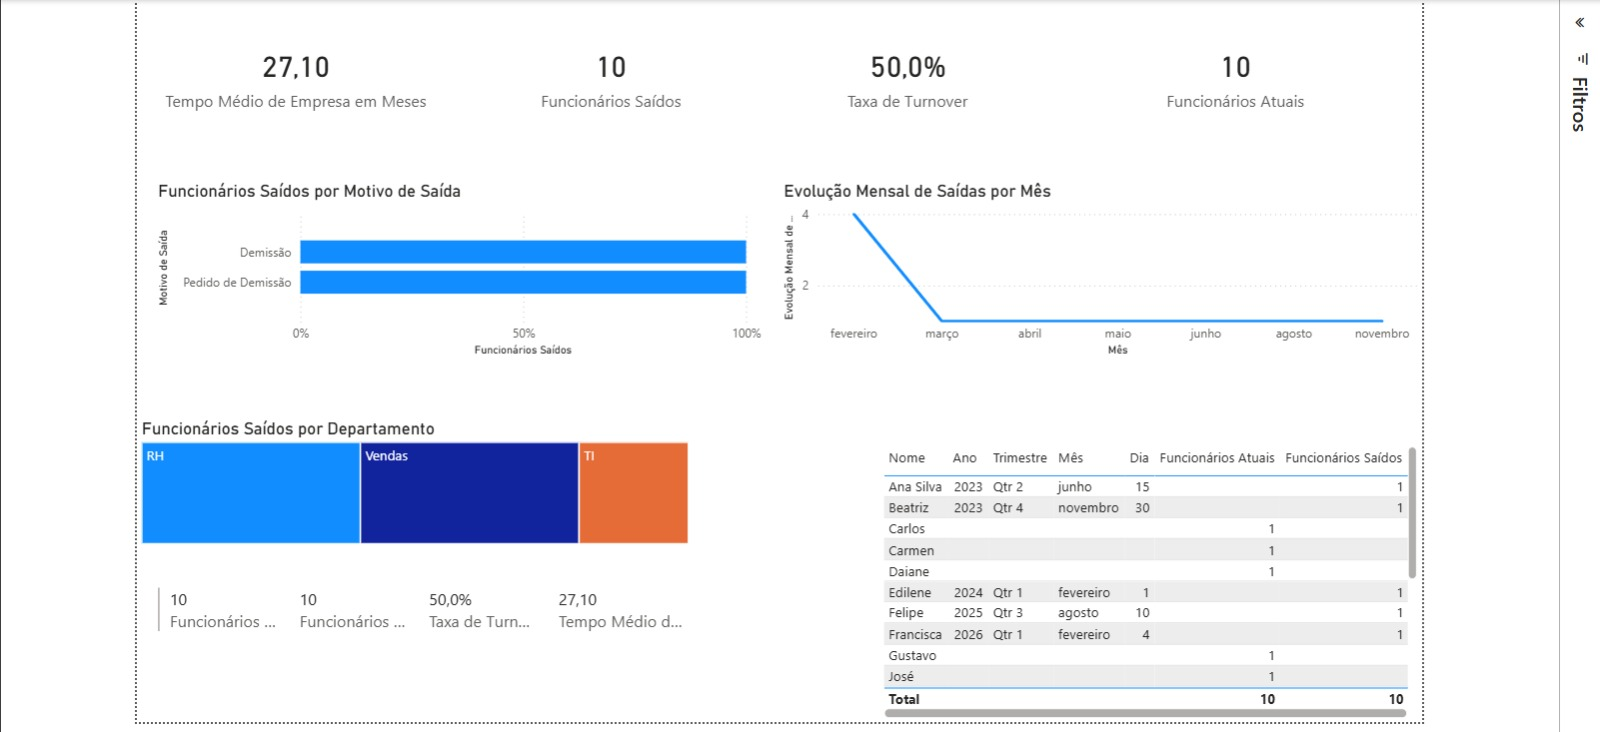

This screenshot's page, from the dashboard's own definition file:
{"tool":"powerbi","page":{"name":"Página 1","canvas":[1280,720],"ordinal":0},"visuals":[{"type":"tableEx","fields":{"Values":["Funcionarios.Nome","Funcionarios.Data_Saida.Variation.Hierarquia de datas.Ano","Funcionarios.Data_Saida.Variation.Hierarquia de datas.Trimestre","Funcionarios.Data_Saida.Variation.Hierarquia de datas.Mês","Funcionarios.Data_Saida.Variation.Hierarquia de datas.Dia","Funcionarios.Funcionarios_Atuais","Funcionarios.Funcionarios_Saidos"]},"box":[738.3,440.5,542,279.9],"z":0},{"type":"multiRowCard","fields":{"Values":["Funcionarios.Funcionarios_Atuais","Funcionarios.Funcionarios_Saidos","Funcionarios.Taxa_Turnover","Funcionarios.Tempo_Medio_Empresa_Meses"]},"box":[16.5,580.4,537.9,140],"z":1},{"type":"card","fields":{"Values":["Funcionarios.Funcionarios_Atuais"]},"box":[908.4,0,371.9,150.9],"z":2},{"type":"card","fields":{"Values":["Funcionarios.Funcionarios_Saidos"]},"box":[317,0,310.1,150.9],"z":3},{"type":"card","fields":{"Values":["Funcionarios.Taxa_Turnover"]},"box":[627.1,0,281.3,150.9],"z":4},{"type":"card","fields":{"Values":["Funcionarios.Tempo_Medio_Empresa_Meses"]},"box":[0,0,317,150.9],"z":5},{"type":"lineChart","fields":{"Category":["Funcionarios.Data_Saida.Variation.Hierarquia de datas.Mês"],"Y":["Funcionarios.Funcionarios_Saidos"]},"box":[639.5,179.8,640.8,179.8],"z":6},{"type":"treemap","fields":{"Group":["Funcionarios.Departamento"],"Values":["Funcionarios.Funcionarios_Saidos"]},"box":[0,417.2,554.4,130.4],"z":7},{"type":"hundredPercentStackedBarChart","fields":{"Category":["Funcionarios.Motivo_Saida"],"Y":["Funcionarios.Funcionarios_Saidos"]},"box":[16.5,179.8,610.6,179.8],"z":8}]}

Visuals, with their boxes on the page's 1280x720 design canvas (x1, y1, x2, y2). These are canvas units, not pixel positions in the 1600x732 screenshot, which may show the page scaled, cropped or inside an application window:
tableEx - Funcionarios.Nome x Funcionarios.Data_Saida.Variation.Hierarquia de datas.Ano: {"x1": 738, "y1": 440, "x2": 1280, "y2": 720}
multiRowCard - Funcionarios.Funcionarios_Atuais x Funcionarios.Funcionarios_Saidos: {"x1": 16, "y1": 580, "x2": 554, "y2": 720}
card - Funcionarios.Funcionarios_Atuais: {"x1": 908, "y1": 0, "x2": 1280, "y2": 151}
card - Funcionarios.Funcionarios_Saidos: {"x1": 317, "y1": 0, "x2": 627, "y2": 151}
card - Funcionarios.Taxa_Turnover: {"x1": 627, "y1": 0, "x2": 908, "y2": 151}
card - Funcionarios.Tempo_Medio_Empresa_Meses: {"x1": 0, "y1": 0, "x2": 317, "y2": 151}
lineChart - Funcionarios.Data_Saida.Variation.Hierarquia de datas.Mês x Funcionarios.Funcionarios_Saidos: {"x1": 640, "y1": 180, "x2": 1280, "y2": 360}
treemap - Funcionarios.Departamento x Funcionarios.Funcionarios_Saidos: {"x1": 0, "y1": 417, "x2": 554, "y2": 548}
hundredPercentStackedBarChart - Funcionarios.Motivo_Saida x Funcionarios.Funcionarios_Saidos: {"x1": 16, "y1": 180, "x2": 627, "y2": 360}
